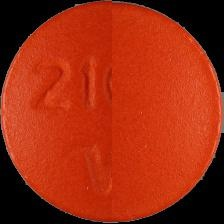0603-2215: (0, 0, 224, 224)
